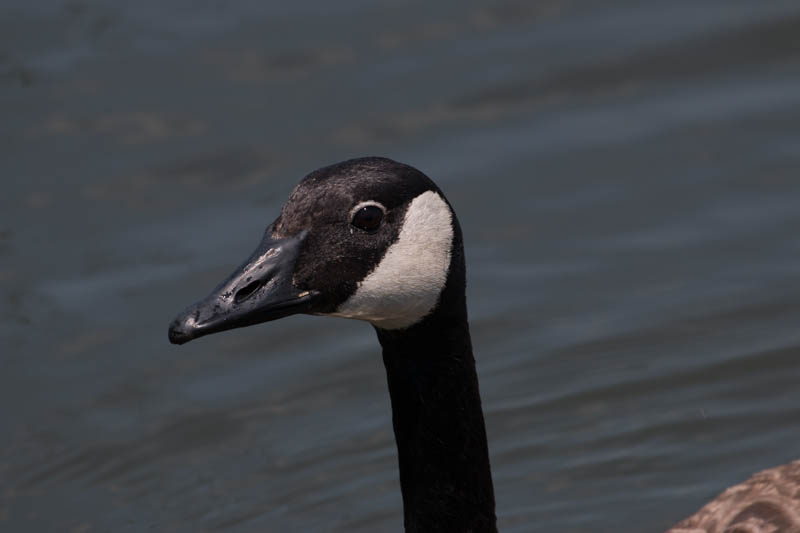goose-head: (167, 156, 466, 347)
